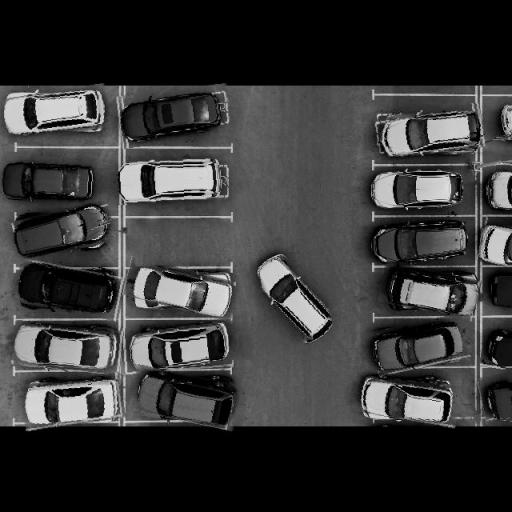busy: (117, 86, 232, 146), (260, 252, 332, 344), (130, 369, 240, 426), (124, 262, 238, 316), (14, 262, 125, 317), (374, 106, 485, 160), (8, 204, 115, 260), (363, 318, 469, 374), (119, 323, 236, 373), (352, 372, 461, 424), (2, 88, 110, 140), (21, 375, 125, 428), (12, 323, 122, 373), (116, 156, 228, 204), (379, 266, 480, 316), (0, 156, 102, 203), (366, 222, 477, 264), (367, 169, 470, 210), (477, 218, 512, 266), (480, 374, 512, 422), (481, 320, 512, 369), (483, 164, 512, 214), (484, 265, 511, 311), (494, 96, 512, 137)
free: (134, 219, 221, 266)
